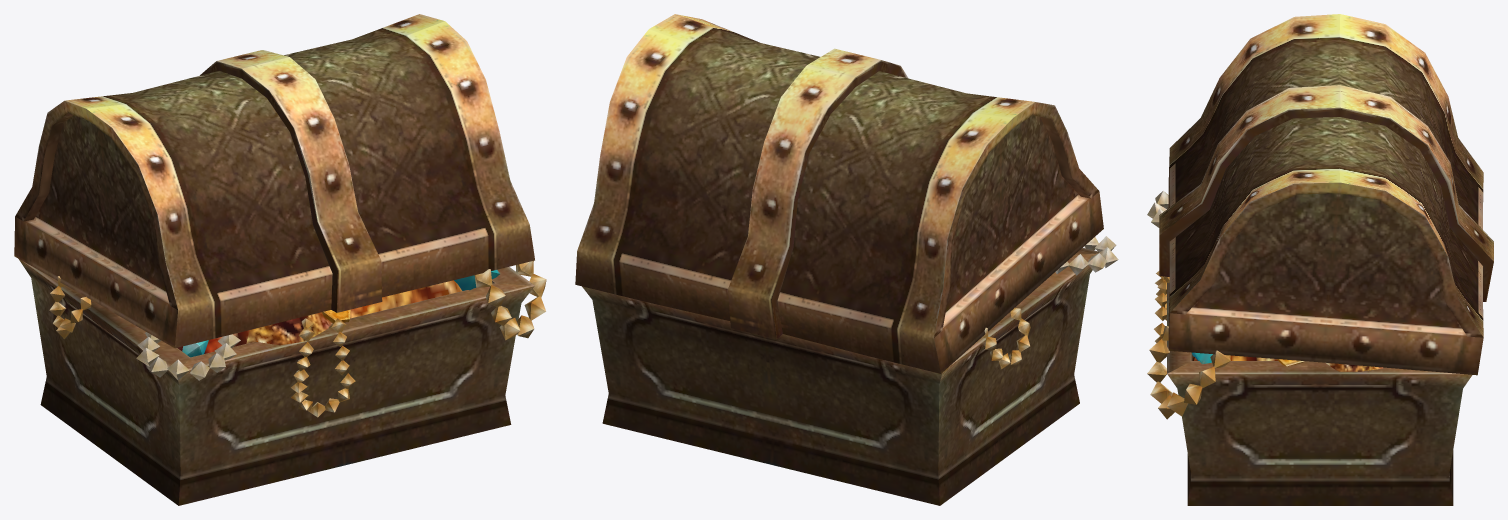
File: nnnn.fbx
The picture shows the model from 3 angles, left to right: view 1: azimuth 30°, elevation 25°; view 2: azimuth 150°, elevation 25°; view 3: azimuth 270°, elevation 25°; orthographic projection. The views are drawn at different scales.
Parts seen in each view (by area): view 1: default029; view 2: default029; view 3: default029.
Boxes of the visible parts, bbox=[...] form: default029: bbox=[14, 14, 546, 505]; default029: bbox=[575, 14, 1118, 505]; default029: bbox=[1147, 14, 1493, 505].
Size of the model in its own units: 1.36 by 1.1 by 1.04.
Materials: 1 (1 with a texture image).
